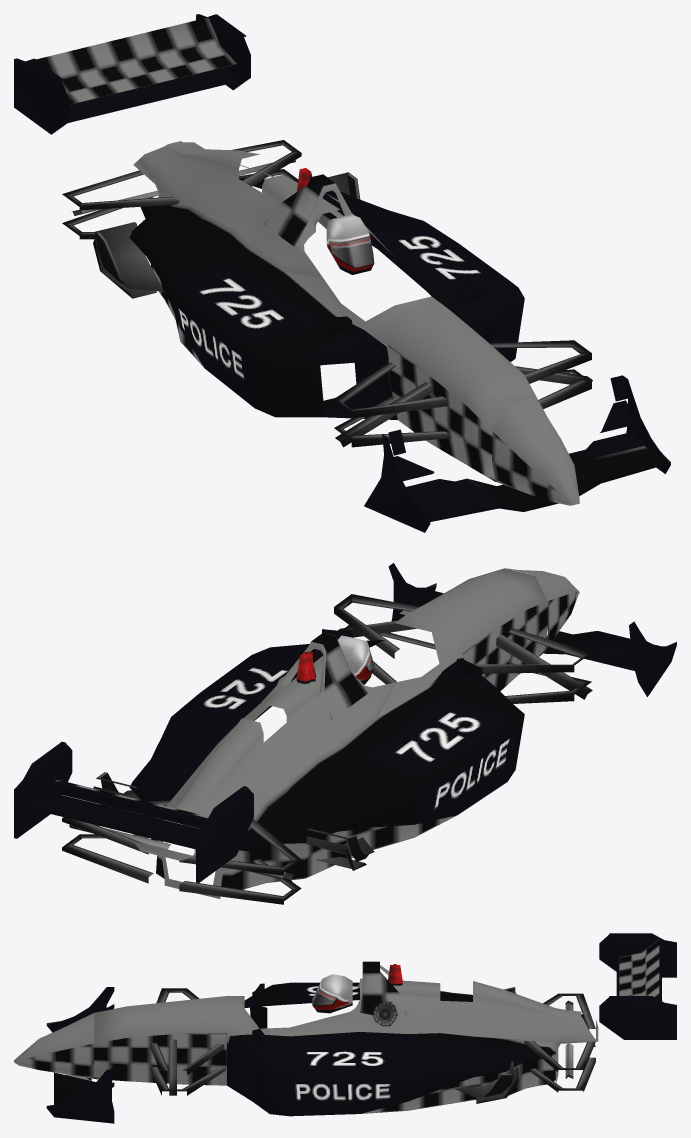
File: car-HSPC_Car27.glb
3 views of the same model, one above another, from view 1: azimuth 30°, elevation 25°; view 2: azimuth 150°, elevation 25°; view 3: azimuth 270°, elevation 25° (orthographic). The views are drawn at different scales.
Visible parts, largest first — view 1: HSPC_Car27; view 2: HSPC_Car27; view 3: HSPC_Car27.
Boxes of the visible parts, x1,y1,x2,y2 form: HSPC_Car27: [14, 14, 670, 532]; HSPC_Car27: [14, 563, 676, 904]; HSPC_Car27: [14, 933, 676, 1123].
Size of the model in its own units: 1.68 by 0.9141 by 4.84.
Materials: 5 (5 with a texture image).
